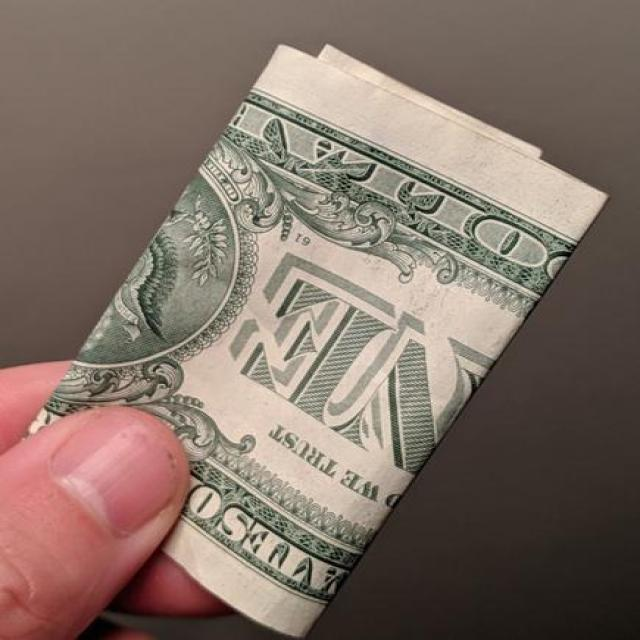1-Back: (26, 36, 614, 632)
